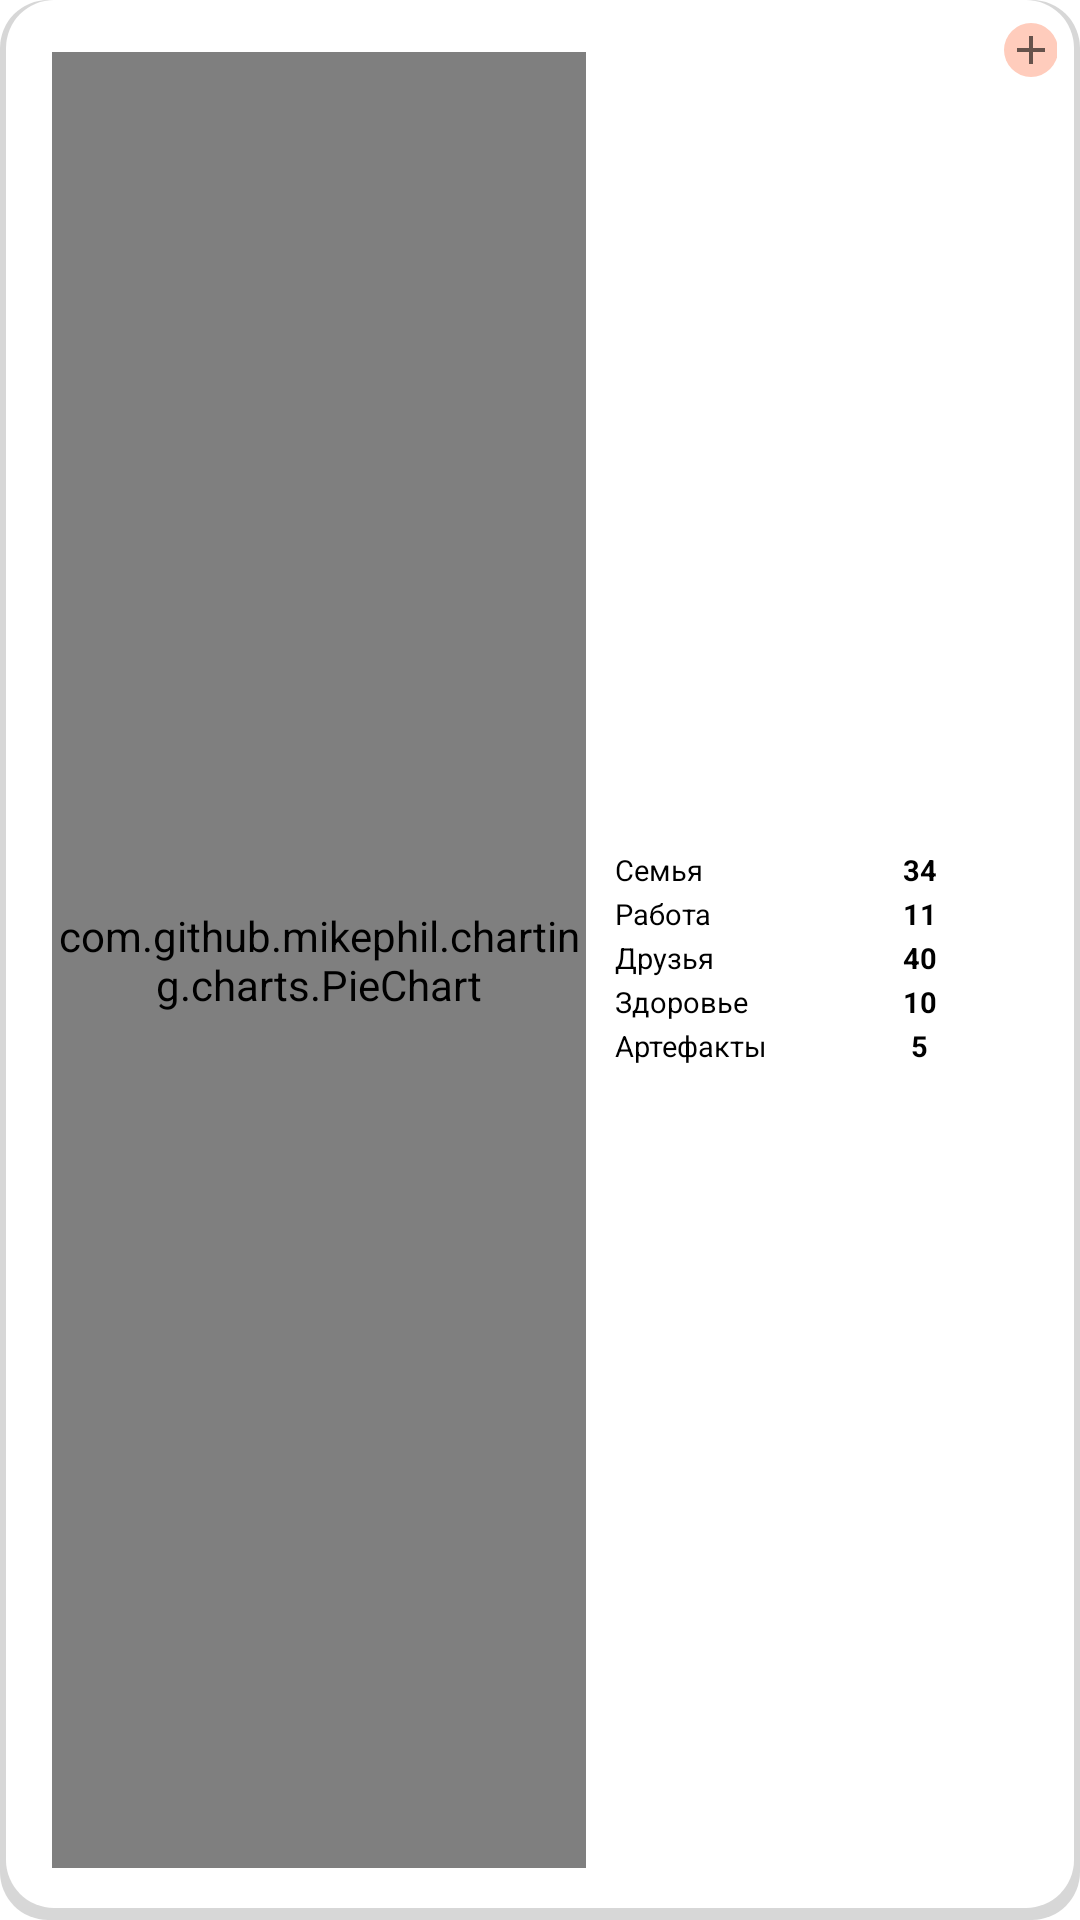

Icon click points for this 1080*1920 phone screenshot, format point (x, y):
add: point (1030, 50)
